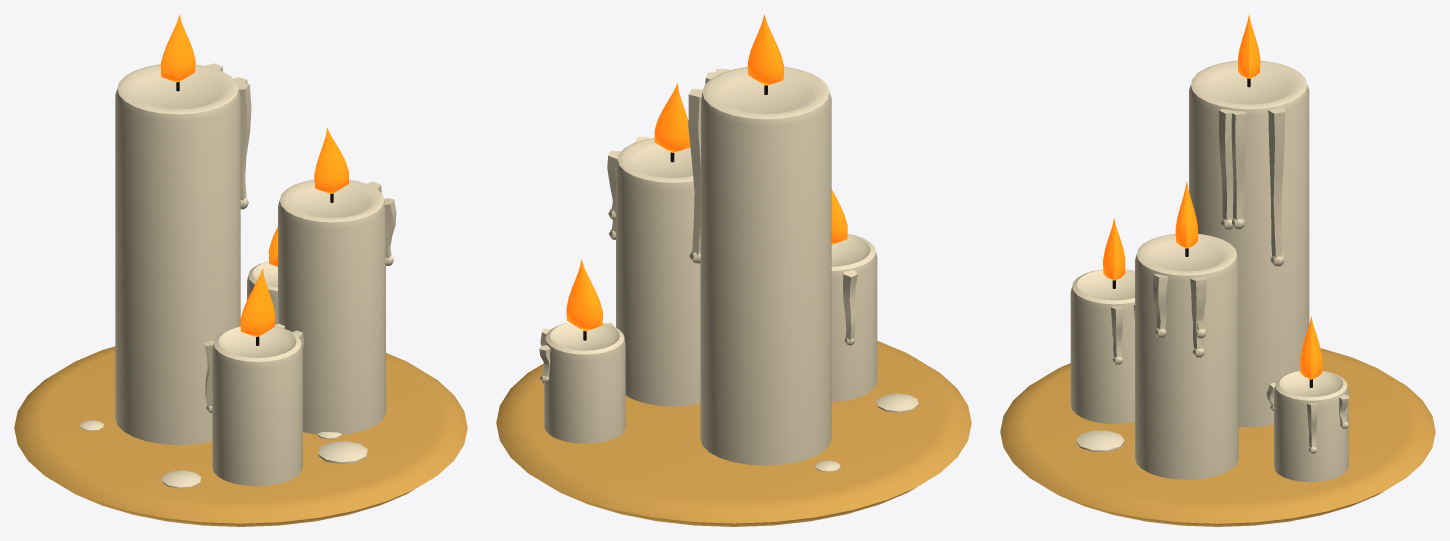
The model's file is manor_candles.glb.
3 views of the same model, side by side, from view 1: azimuth 30°, elevation 25°; view 2: azimuth 150°, elevation 25°; view 3: azimuth 270°, elevation 25° (orthographic). The views are drawn at different scales.
Parts seen in each view (by area): view 1: Candles; view 2: Candles; view 3: Candles.
Boxes of the visible parts, x1,y1,x2,y2 form: Candles: (14, 14, 467, 526); Candles: (496, 14, 971, 526); Candles: (1000, 14, 1435, 526).
Bounding box in the file's own units: 0.42 × 0.43 × 0.42.
